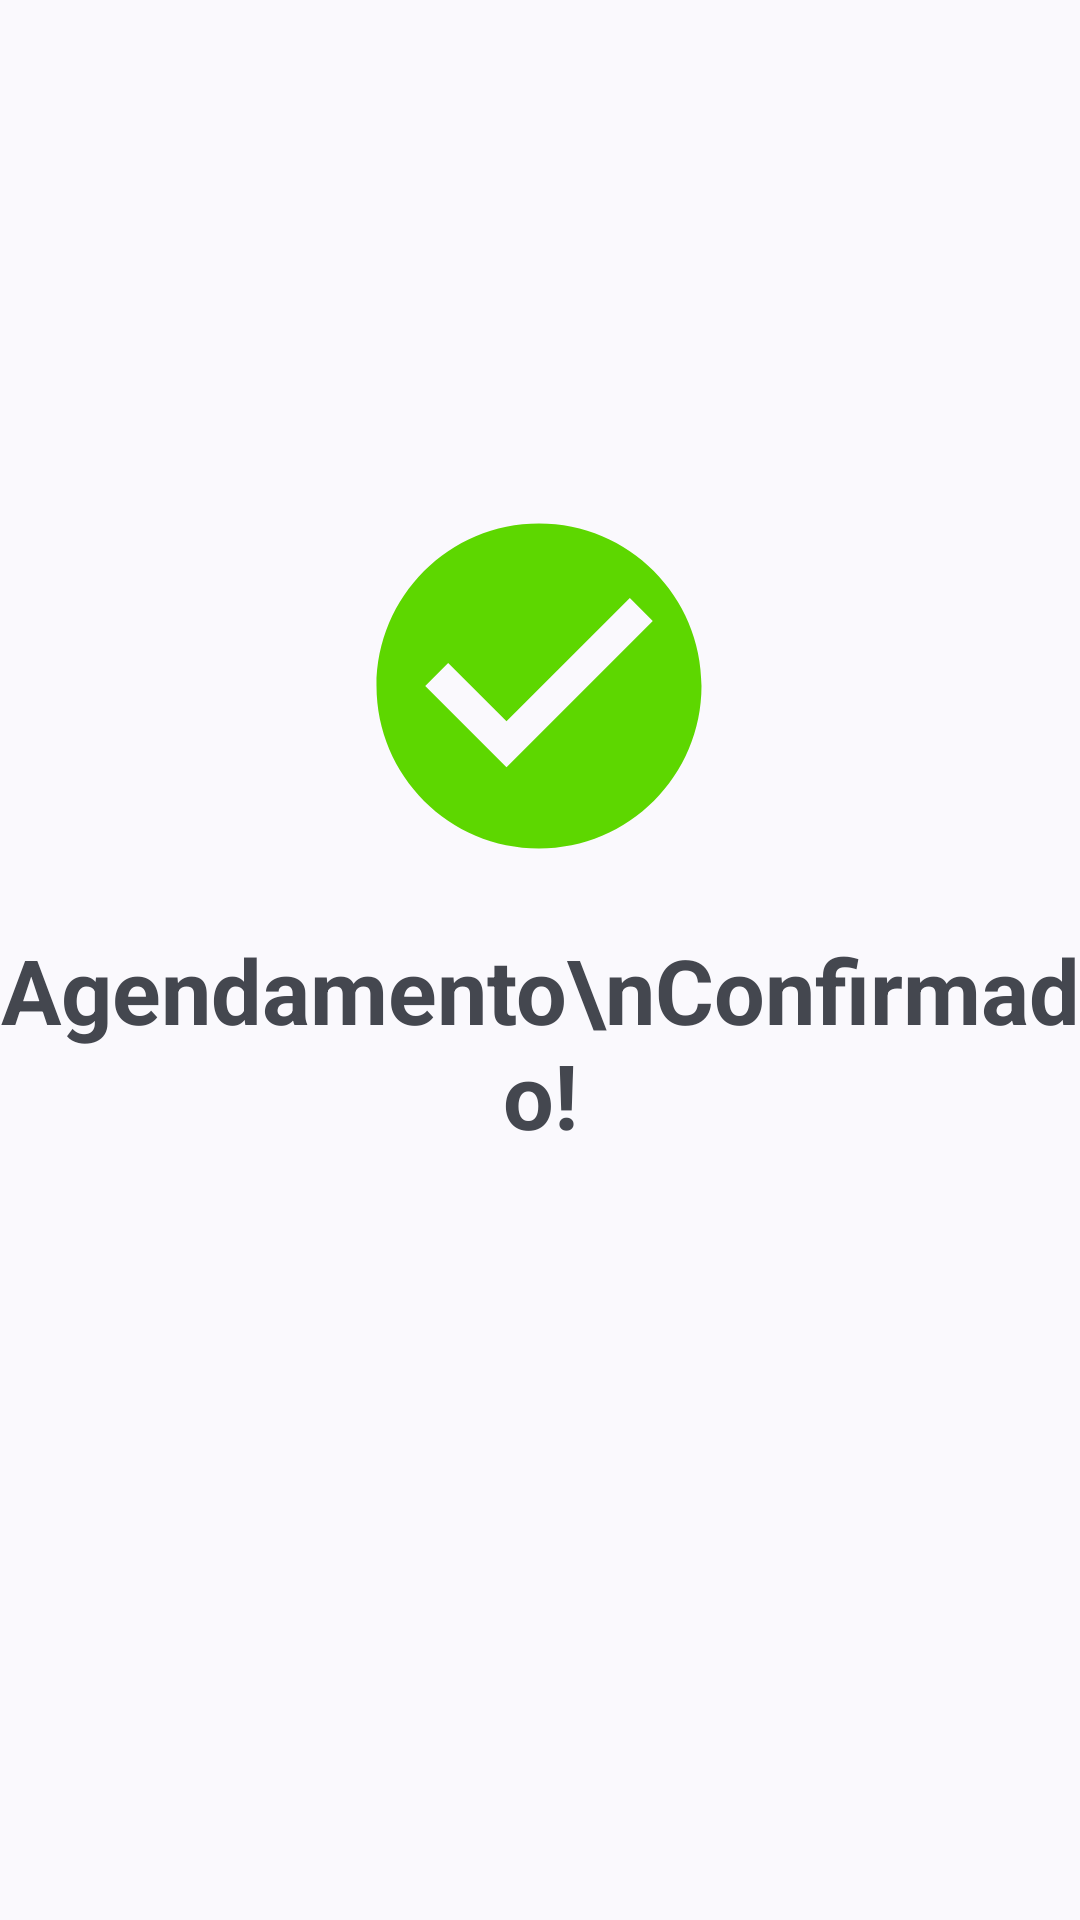

Icons on this 1080px x 1920px Android screen, each with the point to tap as (x=x, y=y):
check circle: (x=539, y=686)
